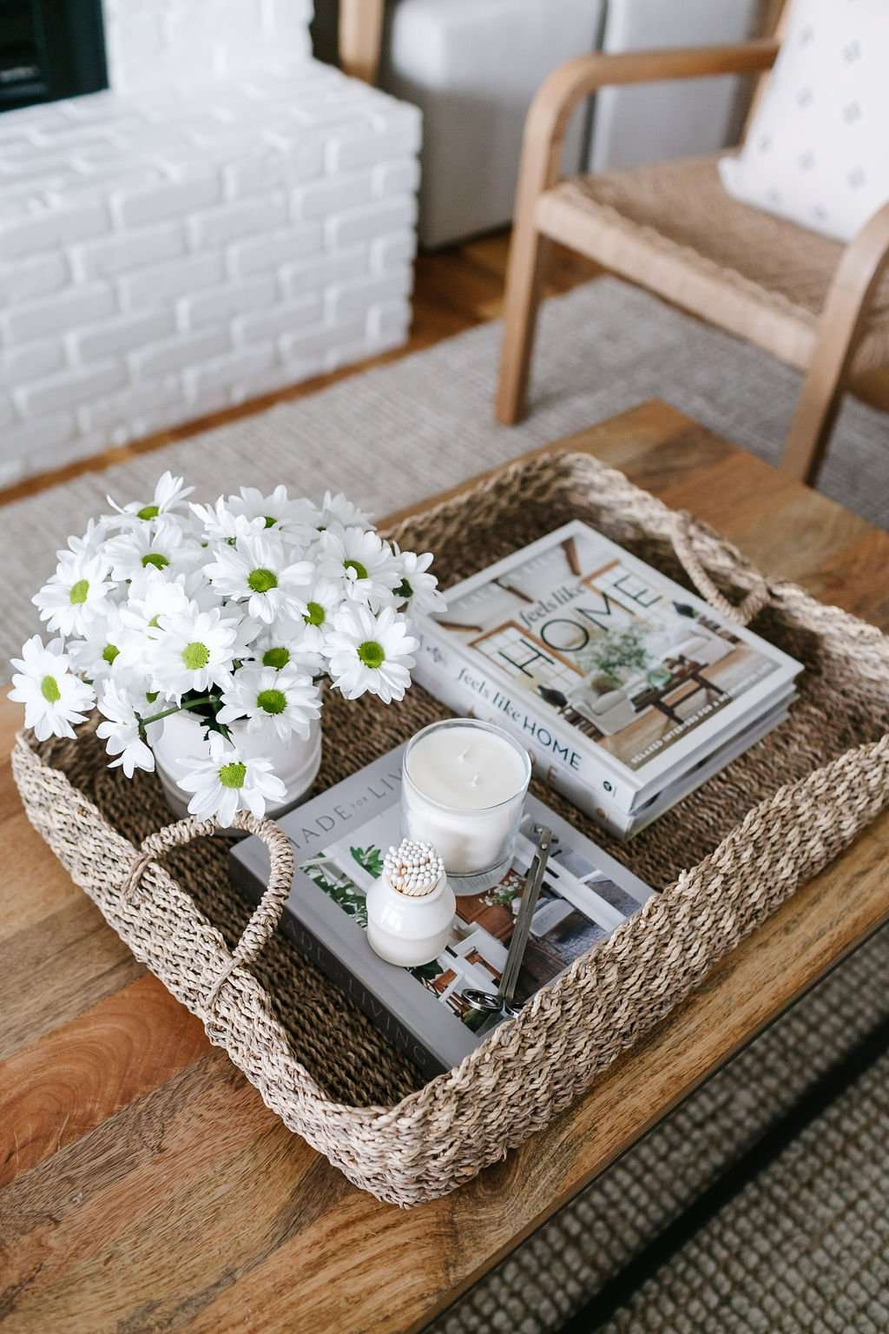not a gesture sign: (0, 231, 508, 504), (545, 257, 599, 294)
